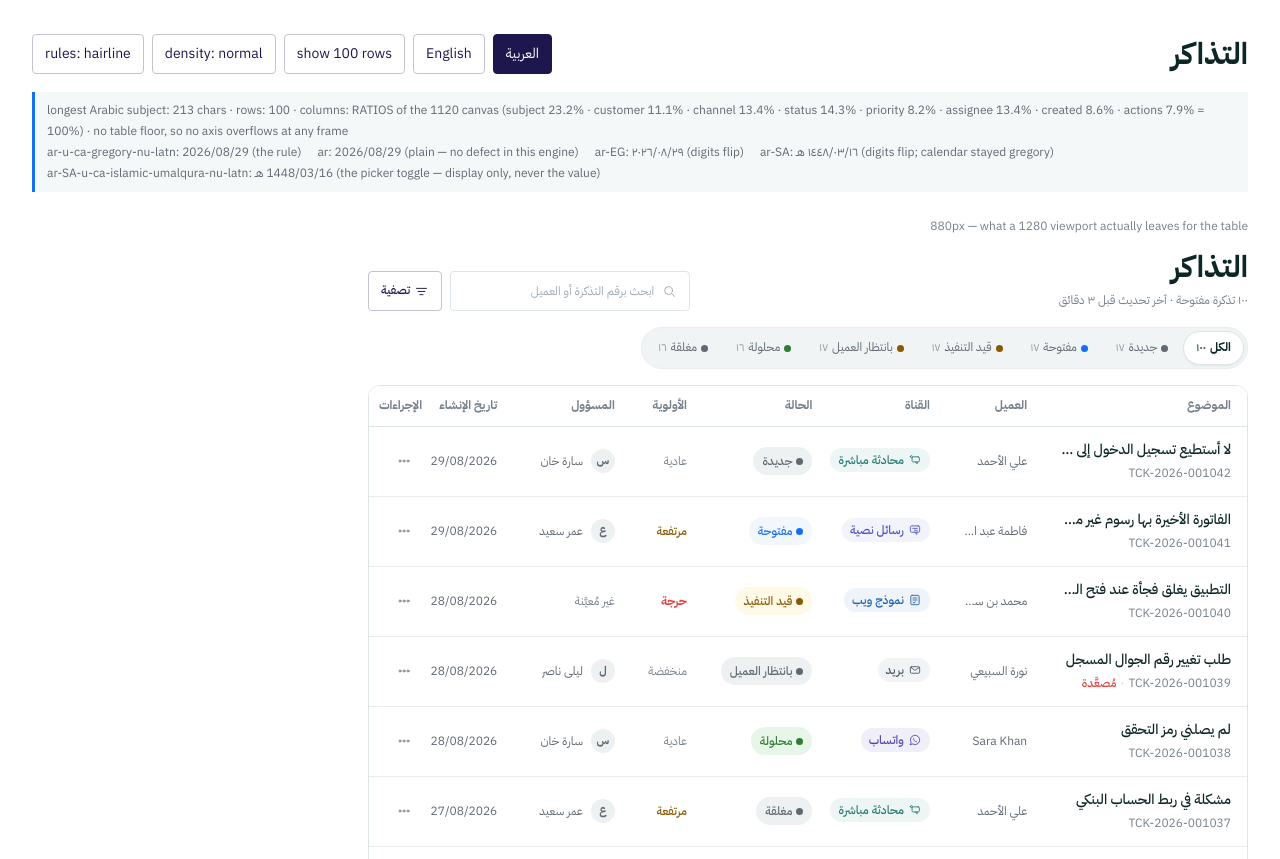
Test case: the popovers are named, not just visible › gives the date field an accessible name carrying label AND value
The image size is (1280, 859).
Click the button "تصفية" at (405, 291), box [368,271,442,311]
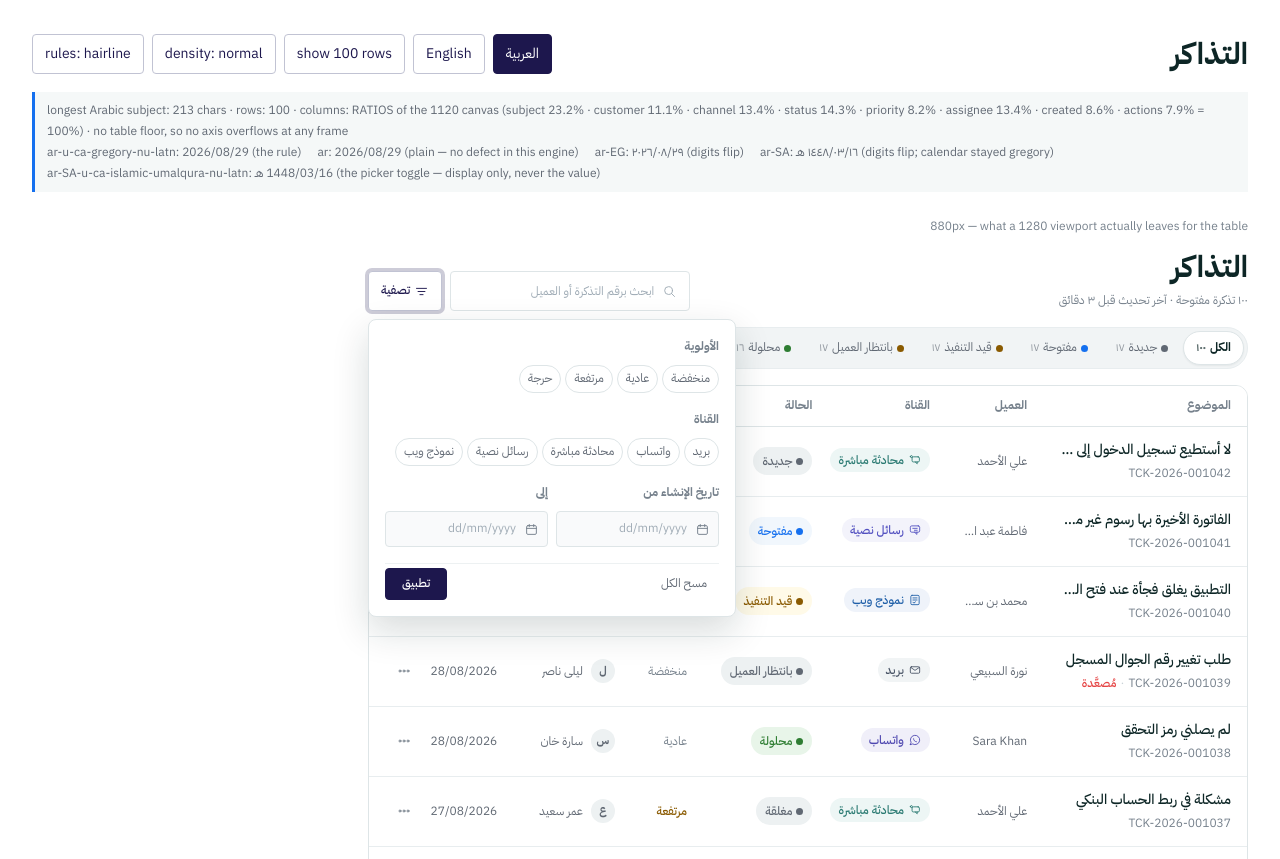
Result: the button named "تاريخ الإنشاء من dd/mm/yyyy" is shown at [556,511,719,547]
